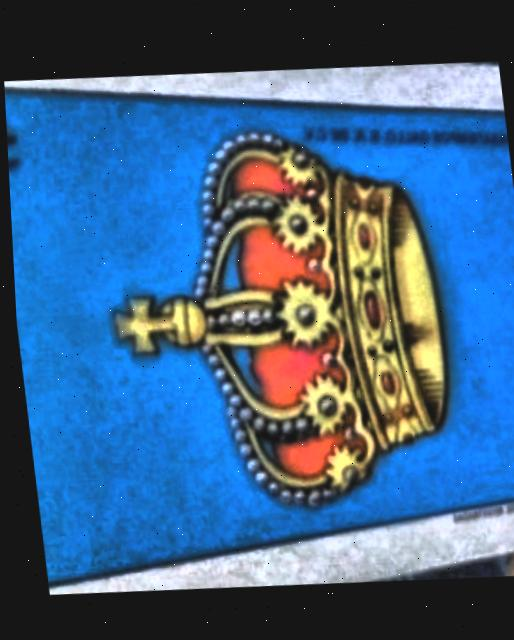La Corona: (4, 89, 514, 583)
